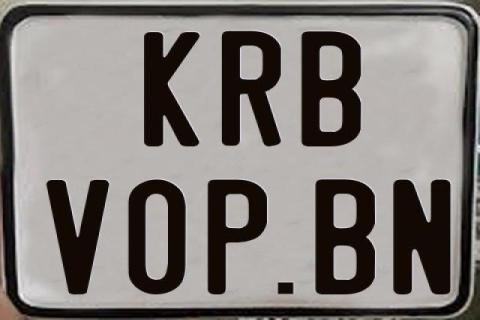0: (128, 180, 192, 300)
B: (299, 32, 365, 150), (315, 178, 375, 294)
K: (142, 30, 200, 146)
N: (392, 178, 456, 296)
P: (207, 179, 268, 295)
R: (221, 29, 282, 149)
V: (45, 180, 112, 297)
